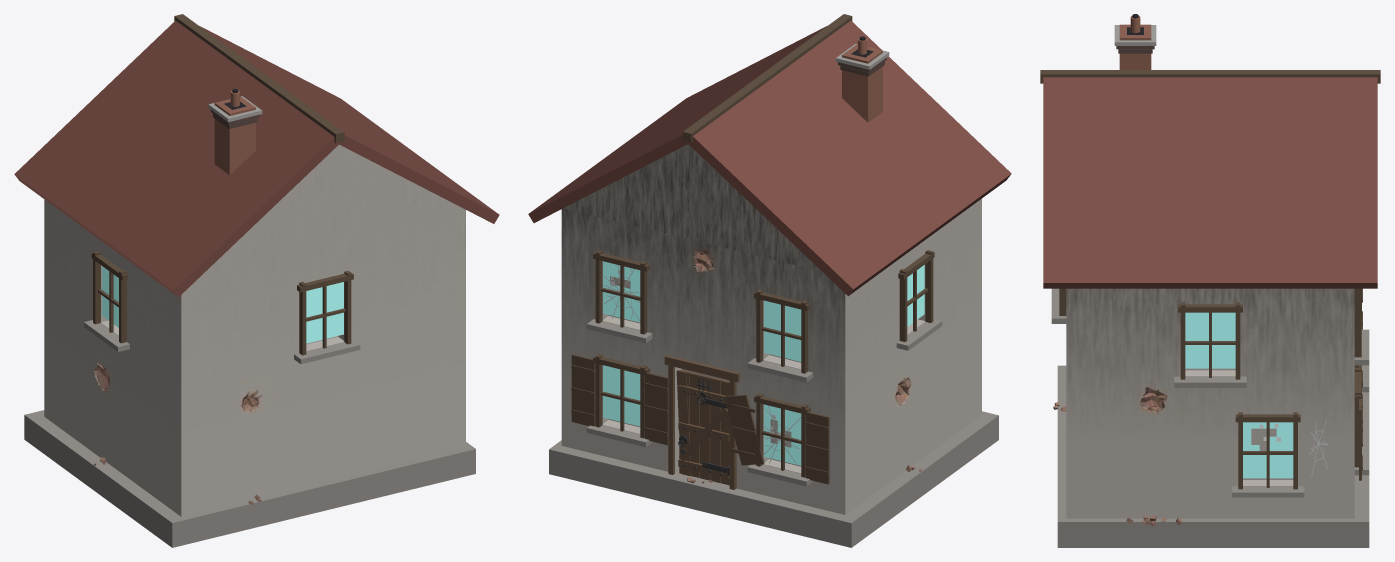
3 renders of one model, left to right at view 1: azimuth 30°, elevation 25°; view 2: azimuth 150°, elevation 25°; view 3: azimuth 270°, elevation 25°, orthographic. The views are drawn at different scales.
Visible parts, largest first — view 1: Ev_Walls, Ev_Roof_W, Ev_Plinth, Ev_Gable_B, Ev_Roof_E, Ev_WindowFrames, Ev_Glass, Ev_RidgeBeam, Ev_Chimney_Brick, Ev_Sills; view 2: Ev_Walls, Ev_Roof_W, Ev_WindowFrames, Ev_Plinth, Ev_Gable_F, Ev_Glass, Ev_Roof_E, Ev_Door_Wood, Ev_Sills, Ev_RidgeBeam, Ev_Chimney_Brick, Ev_Door_Iron (+1 smaller); view 3: Ev_Roof_E, Ev_Walls, Ev_Plinth, Ev_WindowFrames, Ev_Glass, Ev_Sills, Ev_RidgeBeam, Ev_Chimney_Brick, Ev_Chimney_Cap.
Boxes of the visible parts, <box> form: Ev_Walls: <box>44,199,465,516</box>; Ev_Roof_W: <box>14,20,339,297</box>; Ev_Plinth: <box>24,410,475,547</box>; Ev_Gable_B: <box>205,144,463,272</box>; Ev_Roof_E: <box>199,26,499,223</box>; Ev_WindowFrames: <box>91,251,353,355</box>; Ev_Glass: <box>102,266,343,343</box>; Ev_RidgeBeam: <box>174,14,344,143</box>; Ev_Chimney_Brick: <box>214,96,255,175</box>; Ev_Sills: <box>84,320,360,364</box>; Ev_Walls: <box>561,198,981,514</box>; Ev_Roof_W: <box>687,21,1011,296</box>; Ev_WindowFrames: <box>571,250,934,484</box>; Ev_Plinth: <box>549,411,998,547</box>; Ev_Gable_F: <box>563,144,821,271</box>; Ev_Glass: <box>603,261,924,465</box>; Ev_Roof_E: <box>528,26,826,222</box>; Ev_Door_Wood: <box>664,355,739,489</box>; Ev_Sills: <box>586,318,942,486</box>; Ev_RidgeBeam: <box>682,14,852,142</box>; Ev_Chimney_Brick: <box>842,44,882,122</box>; Ev_Door_Iron: <box>679,377,729,475</box>; Ev_Roof_E: <box>1043,77,1377,288</box>; Ev_Walls: <box>1066,288,1354,518</box>; Ev_Plinth: <box>1057,365,1369,547</box>; Ev_WindowFrames: <box>1059,288,1362,489</box>; Ev_Glass: <box>1185,312,1293,478</box>; Ev_Sills: <box>1051,288,1369,497</box>; Ev_RidgeBeam: <box>1040,70,1380,83</box>; Ev_Chimney_Brick: <box>1119,24,1151,69</box>; Ev_Chimney_Cap: <box>1114,25,1156,45</box>.
Size of the model in its own units: 8.94 by 10.64 by 7.67.
Materials: 21 (6 with a texture image).
